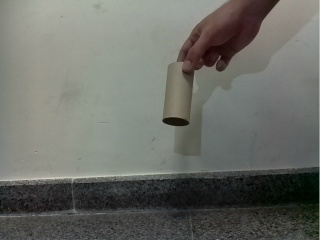rollo papel: (161, 61, 194, 127)
